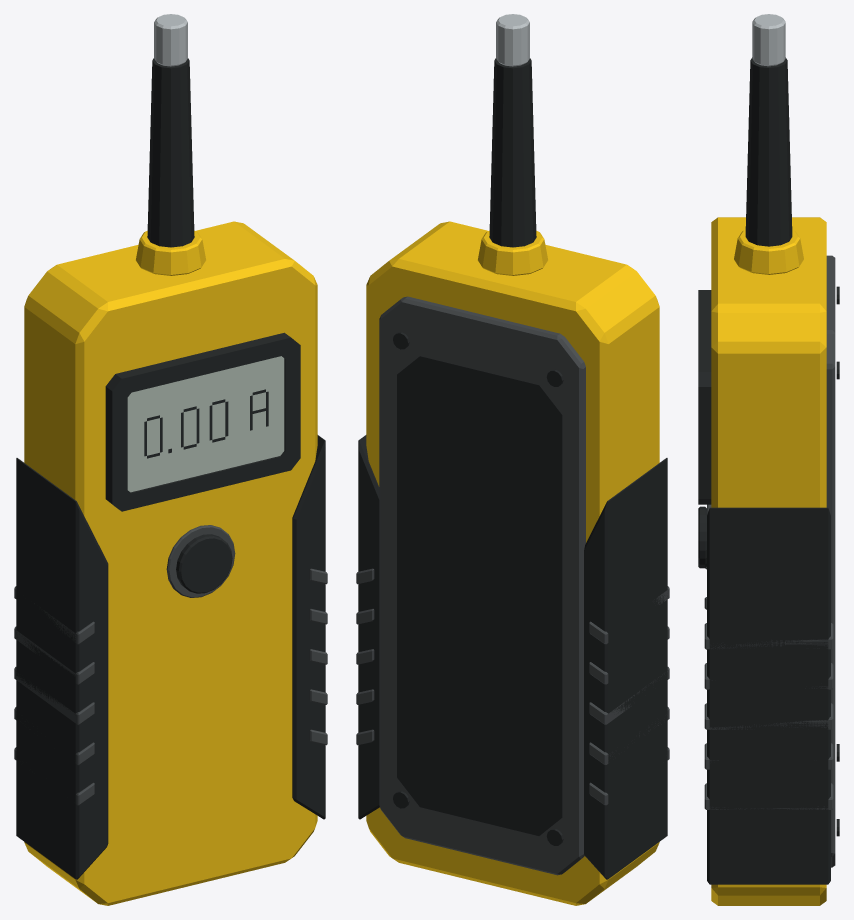
File: current-meter.fbx
3 views of the same model, side by side, from view 1: azimuth 30°, elevation 25°; view 2: azimuth 150°, elevation 25°; view 3: azimuth 270°, elevation 25° (orthographic).
Visible parts, largest first — view 1: Housing, LeftGrip, DisplaySurface, DisplayBezel, RightGrip, ProbeInsulation, Button, ProbeCollar, MetalTip, ButtonSocket, DisplayText, LeftGripRib2 (+1 smaller); view 2: BatteryInset, Housing, RearBatteryCover, LeftGrip, ProbeInsulation, RightGrip, ProbeCollar, MetalTip; view 3: RightGrip, Housing, ProbeInsulation, RearBatteryCover, DisplayBezel, ProbeCollar, MetalTip, RightGripRib4, RightGripRib2, Button, RightGripRib0.
Part boxes in pixels (box(x1,y1,x2,y2)): Housing: box(24, 221, 317, 905); LeftGrip: box(16, 458, 108, 879); DisplaySurface: box(127, 356, 284, 492); DisplayBezel: box(105, 332, 300, 511); RightGrip: box(292, 435, 325, 819); ProbeInsulation: box(147, 58, 194, 247); Button: box(176, 534, 232, 593); ProbeCollar: box(136, 230, 205, 275); MetalTip: box(154, 14, 187, 66); ButtonSocket: box(166, 525, 235, 597); DisplayText: box(144, 389, 268, 458); LeftGripRib2: box(14, 667, 94, 724); BatteryInset: box(397, 356, 562, 835); Housing: box(366, 221, 659, 905); RearBatteryCover: box(379, 296, 585, 875); LeftGrip: box(584, 458, 667, 879); ProbeInsulation: box(489, 58, 536, 247); RightGrip: box(358, 435, 379, 819); ProbeCollar: box(478, 230, 547, 275); MetalTip: box(496, 14, 529, 66); RightGrip: box(707, 507, 830, 884); Housing: box(711, 217, 826, 905); ProbeInsulation: box(745, 57, 792, 246); RearBatteryCover: box(826, 255, 835, 867); DisplayBezel: box(698, 290, 711, 504); ProbeCollar: box(734, 230, 803, 274); MetalTip: box(752, 14, 785, 66); RightGripRib4: box(704, 623, 833, 649); RightGripRib2: box(704, 703, 833, 729); Button: box(698, 506, 706, 568); RightGripRib0: box(704, 783, 833, 809).
Size of the model in its own units: 0.065 by 0.21 by 0.032.
